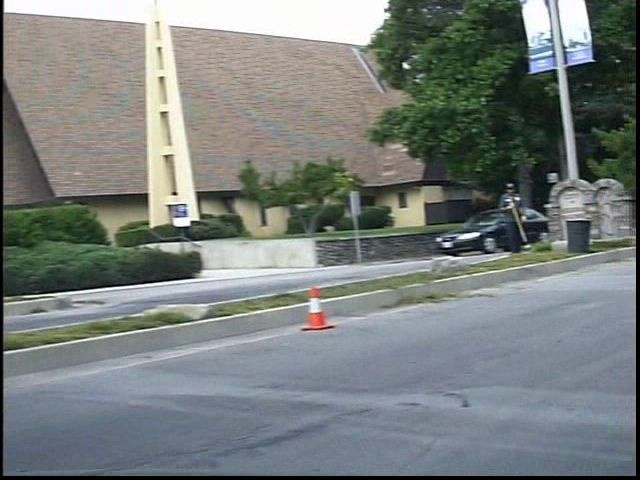person: (509, 175, 542, 256)
